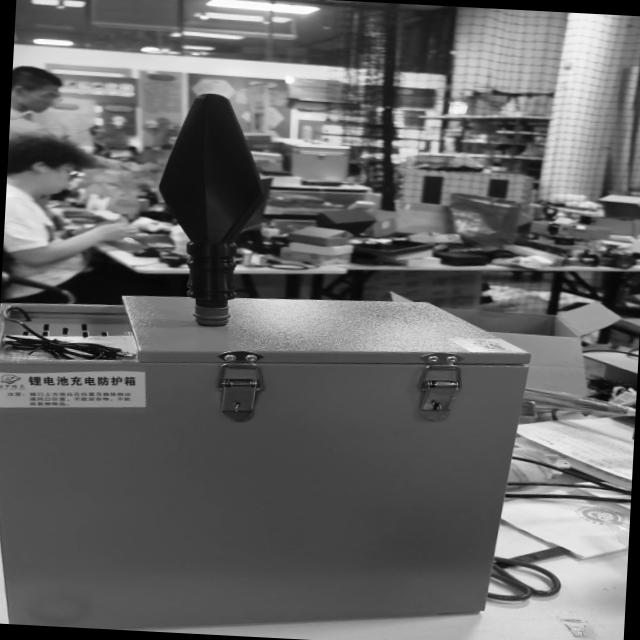base: (192, 304, 232, 327)
